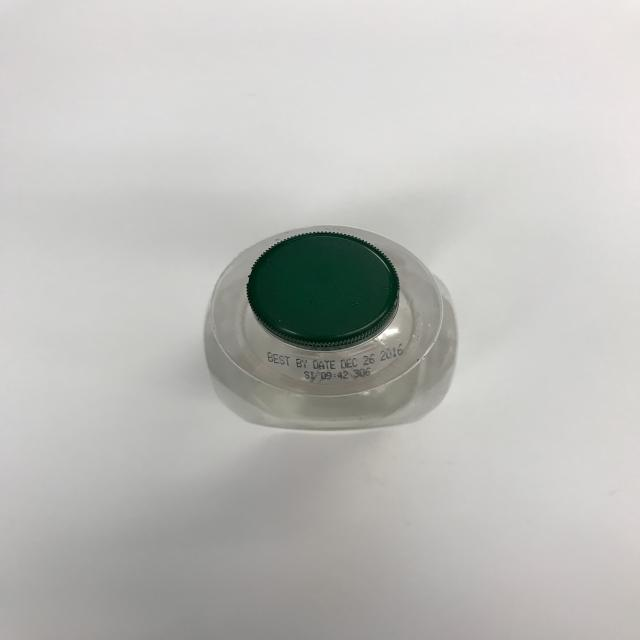plastic: (202, 224, 458, 431)
